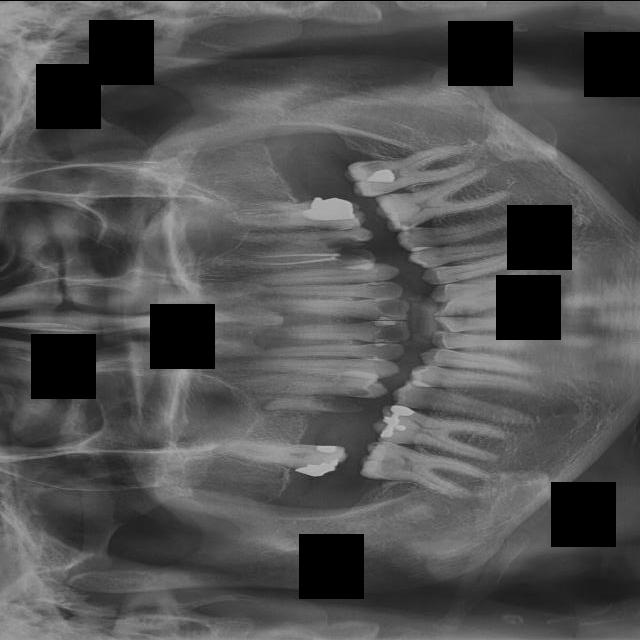72: (263, 394, 361, 414)
74: (252, 257, 343, 265), (252, 208, 307, 219), (255, 252, 337, 258)
NucleOSS Implant: (374, 398, 416, 445), (302, 195, 355, 221), (294, 457, 345, 481), (367, 167, 394, 181), (315, 446, 338, 453)
Sterngold Implant: (324, 232, 365, 250), (372, 454, 400, 473), (337, 247, 374, 261), (343, 383, 375, 398), (356, 159, 383, 172), (279, 459, 309, 468), (393, 217, 415, 229), (375, 186, 396, 194), (401, 226, 419, 234), (363, 281, 388, 286), (378, 193, 399, 198)
Straumann Implant: (368, 296, 395, 303), (366, 353, 386, 361), (369, 320, 395, 326), (372, 337, 393, 344), (375, 315, 397, 321), (370, 342, 389, 347)
